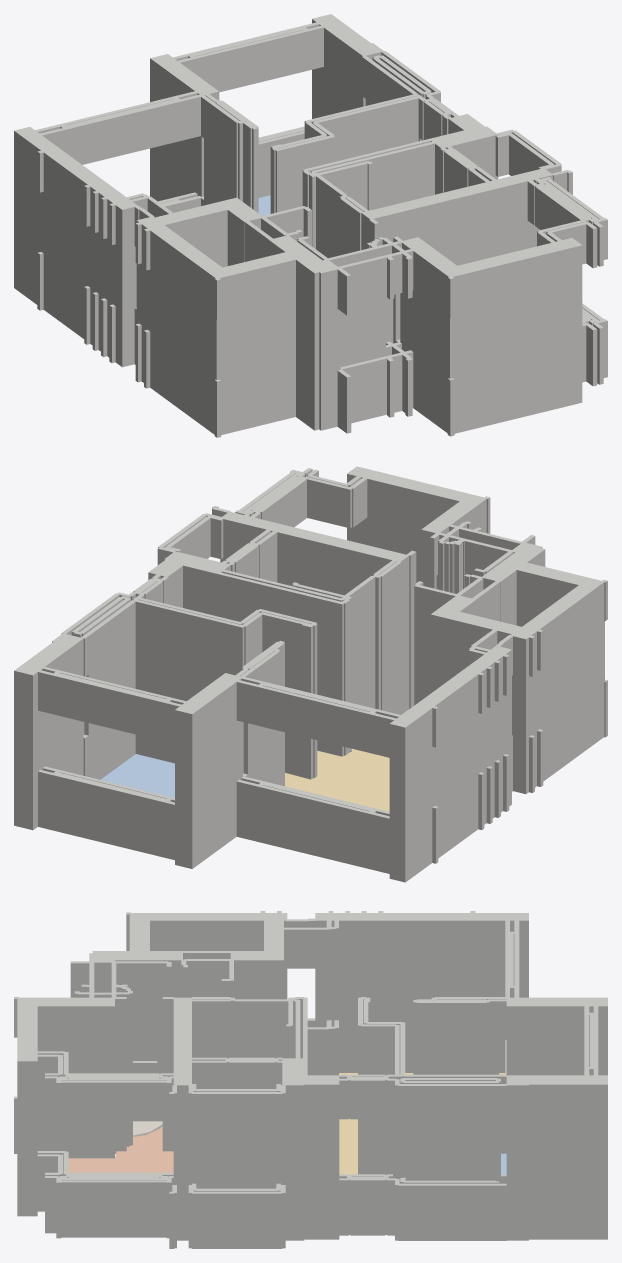
3 views of the same model, one above another, from view 1: azimuth 30°, elevation 25°; view 2: azimuth 150°, elevation 25°; view 3: azimuth 270°, elevation 25° (orthographic).
Parts seen in each view (by area): view 1: walls; view 2: walls, room:living:1, room:bedroom:0; view 3: walls, room:kitchen:5, room:living:1.
Boxes of the visible parts, x1,y1,x2,y2 form: walls: (14,14,607,437); walls: (14,466,607,882); room:living:1: (285,748,389,811); room:bedroom:0: (100,754,174,797); walls: (14,911,607,1248); room:kitchen:5: (68,1127,173,1173); room:living:1: (339,1073,505,1174).
Bounding box in the file's own units: 7.08 × 2.8 × 9.72.
